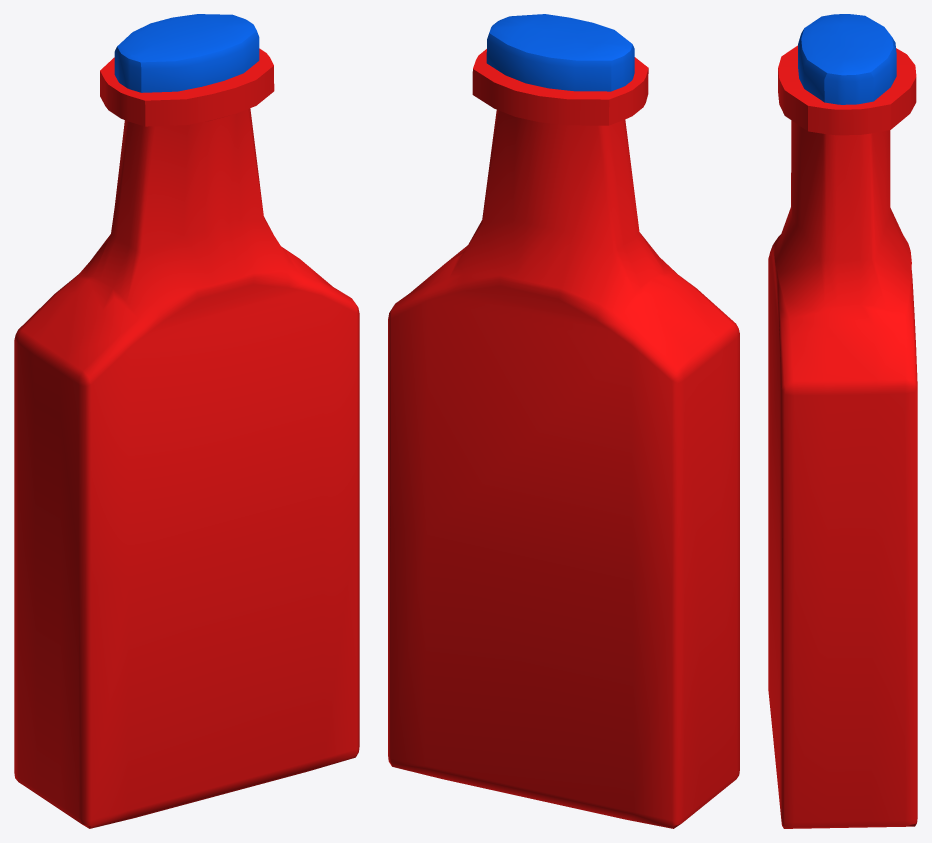
The model's file is AntiqueBottle.fbx.
3 views of the same model, side by side, from view 1: azimuth 30°, elevation 25°; view 2: azimuth 150°, elevation 25°; view 3: azimuth 270°, elevation 25° (orthographic). The views are drawn at different scales.
Parts seen in each view (by area): view 1: Antique Bottle, Cork; view 2: Antique Bottle, Cork; view 3: Antique Bottle, Cork.
Boxes of the visible parts, left/top/right/bottom form: Antique Bottle: left=14, top=48, right=359, bottom=828; Cork: left=114, top=14, right=259, bottom=92; Antique Bottle: left=388, top=49, right=739, bottom=828; Cork: left=486, top=14, right=634, bottom=91; Antique Bottle: left=768, top=45, right=917, bottom=828; Cork: left=798, top=14, right=896, bottom=104.
Bounding box in the file's own units: 4.97 × 12.15 × 2.27.
